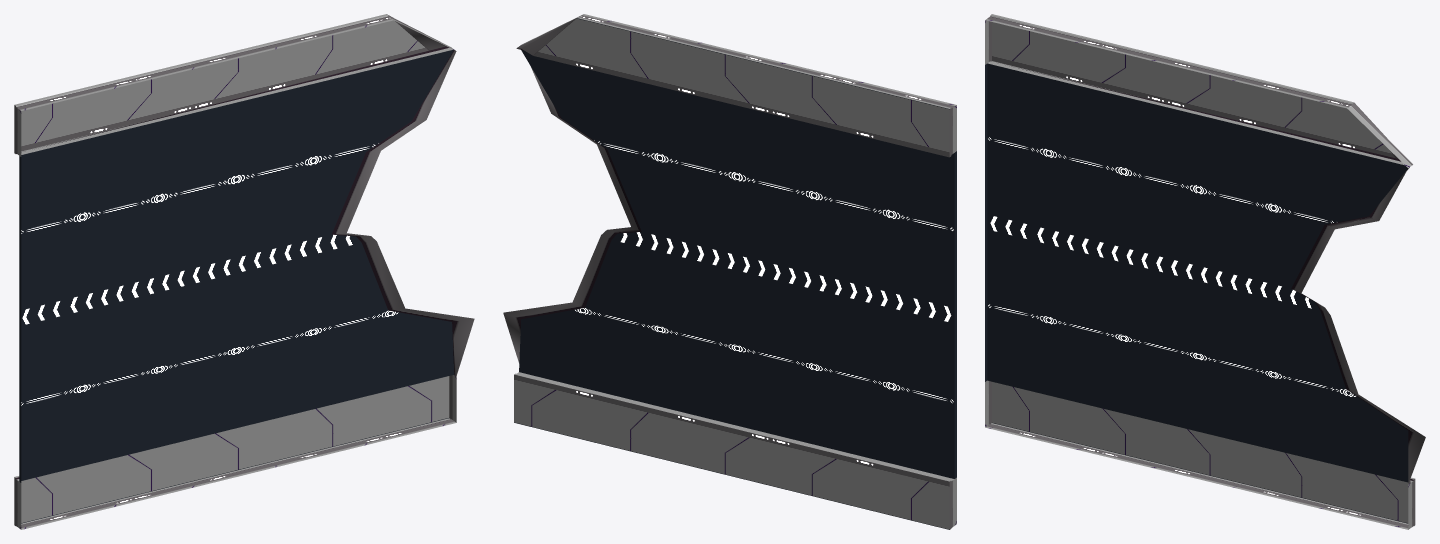
The model's file is SM_L_Fix4Road.fbx.
3 renders of one model, left to right at view 1: azimuth 30°, elevation 25°; view 2: azimuth 150°, elevation 25°; view 3: azimuth 330°, elevation 25°, orthographic. The views are drawn at different scales.
Parts seen in each view (by area): view 1: SM_L_Fix4Road; view 2: SM_L_Fix4Road; view 3: SM_L_Fix4Road.
Boxes of the visible parts, x1,y1,x2,y2 form: SM_L_Fix4Road: (14, 14, 474, 529); SM_L_Fix4Road: (503, 14, 956, 529); SM_L_Fix4Road: (985, 14, 1425, 529).
Bounding box in the file's own units: 5644 × 5003 × 155.
